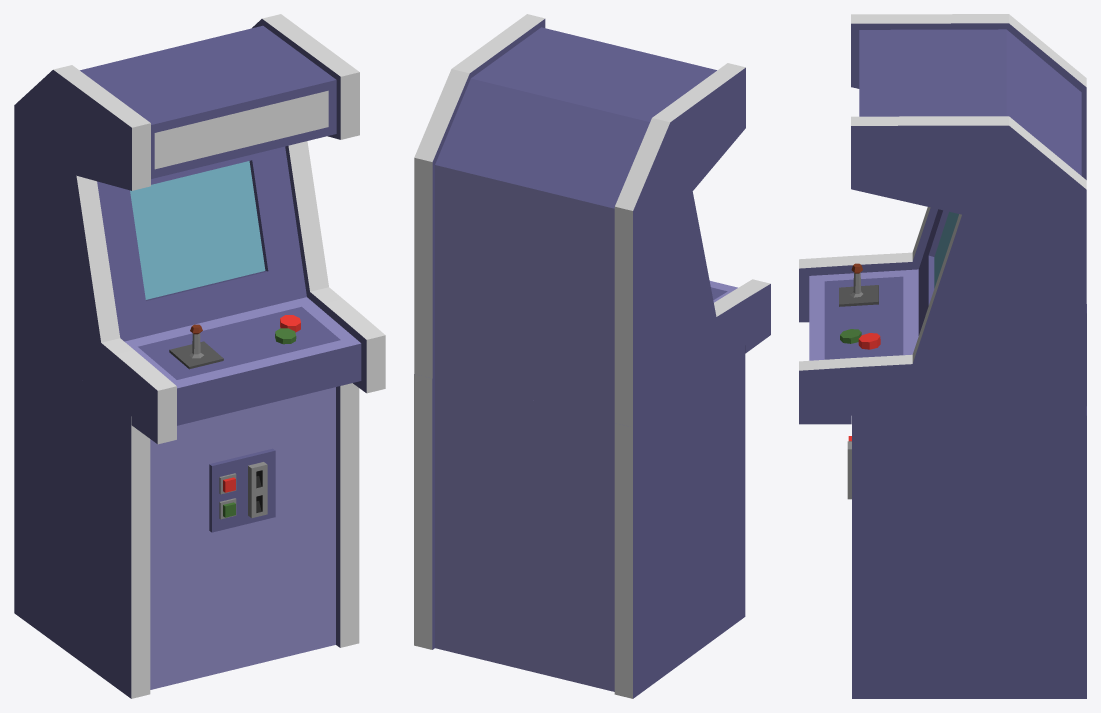
Rendered from SM_Props_ArcadeMachine_02.fbx.
The picture shows the model from 3 angles, left to right: view 1: azimuth 30°, elevation 25°; view 2: azimuth 150°, elevation 25°; view 3: azimuth 270°, elevation 25°; orthographic projection. The views are drawn at different scales.
Parts seen in each view (by area): view 1: SM_Props_ArcadeMachine_02; view 2: SM_Props_ArcadeMachine_02; view 3: SM_Props_ArcadeMachine_02.
Part boxes in pixels (x1,y1,x2,y2): SM_Props_ArcadeMachine_02: (14,14,385,698); SM_Props_ArcadeMachine_02: (414,14,770,698); SM_Props_ArcadeMachine_02: (799,14,1086,698).
Size of the model in its own units: 0.7172 by 1.72 by 0.7822.
